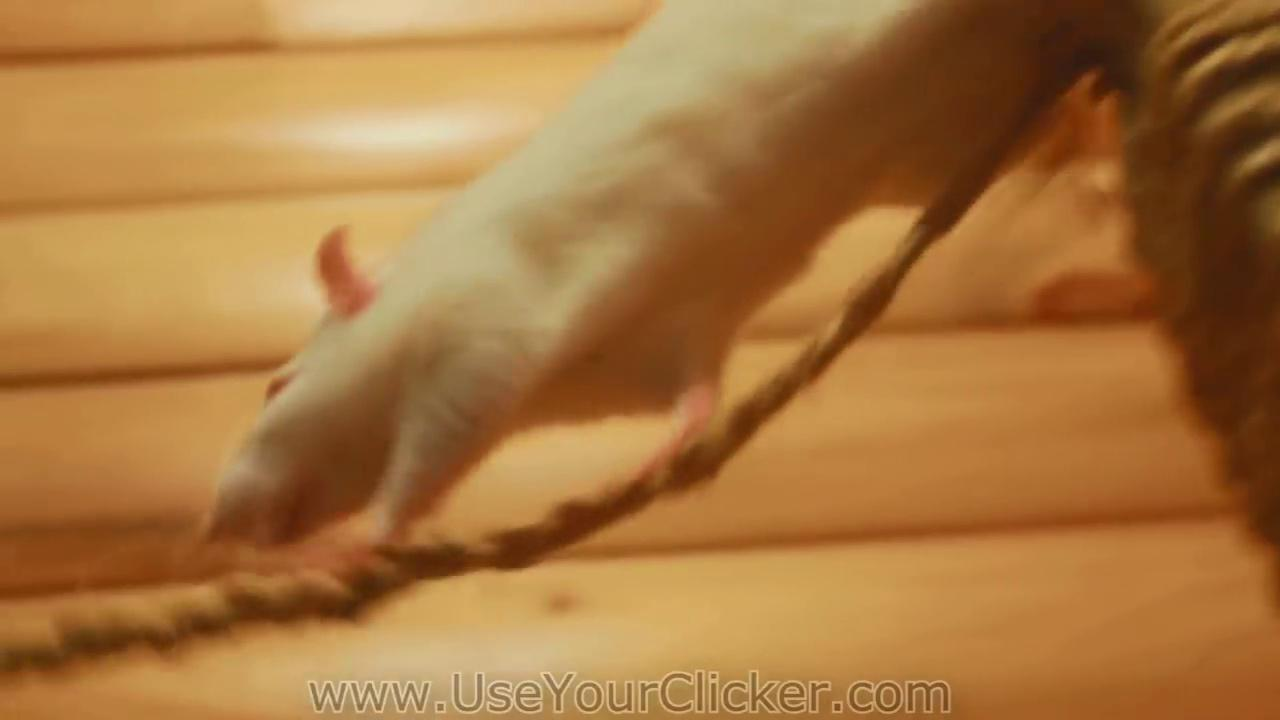rat: (202, 0, 1138, 555)
